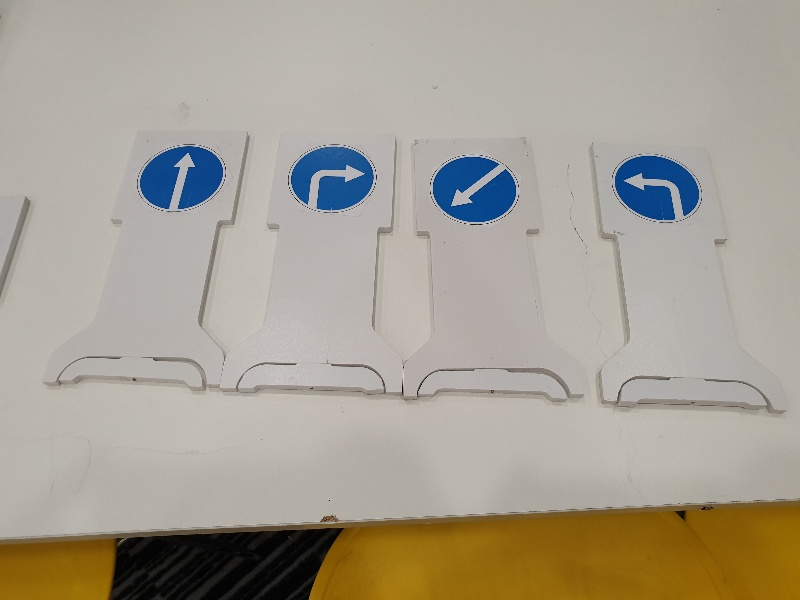Left: (604, 149, 705, 226)
Right: (278, 139, 379, 216)
forw: (129, 138, 230, 215)
prep: (423, 151, 524, 228)
